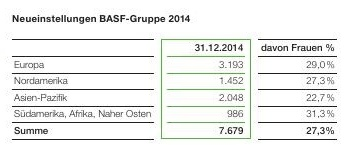table: (0, 0, 347, 151)
